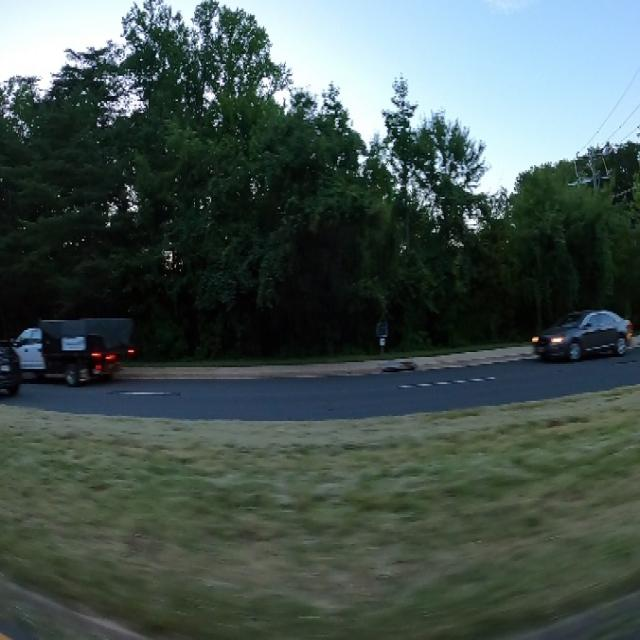Cars: (532, 307, 640, 369)
Jeep: (9, 327, 130, 393)
